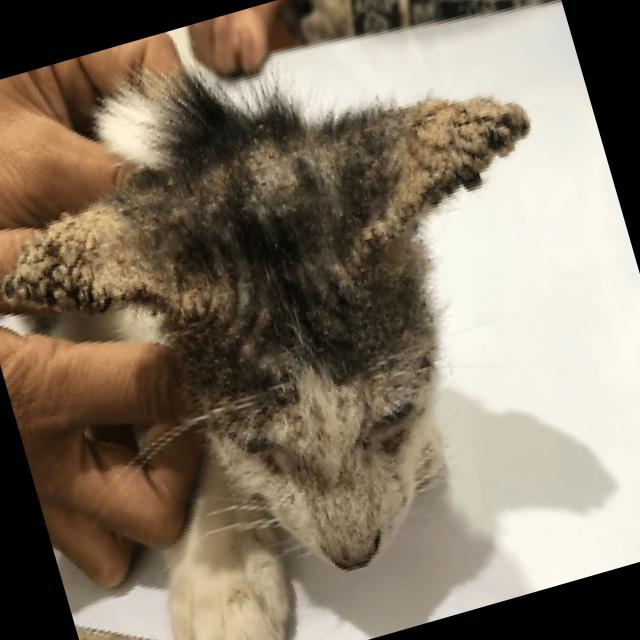Mange: (337, 95, 535, 288), (0, 192, 202, 322), (233, 128, 310, 213), (284, 392, 344, 450)
